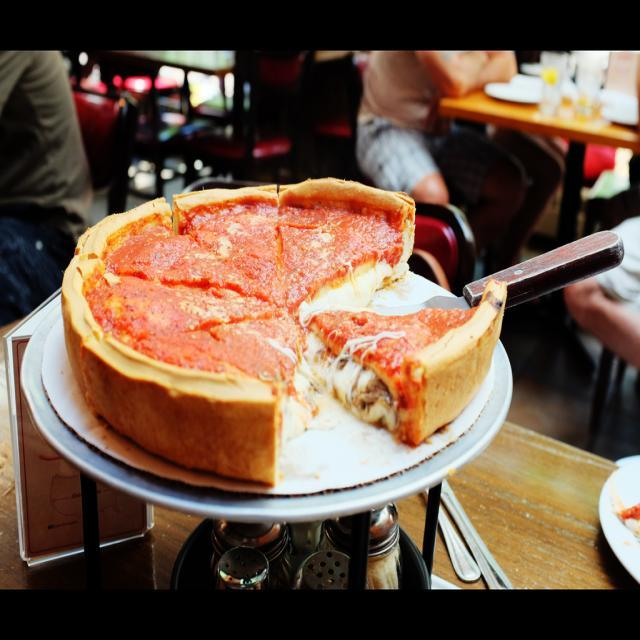Pizza: (54, 186, 504, 493)
